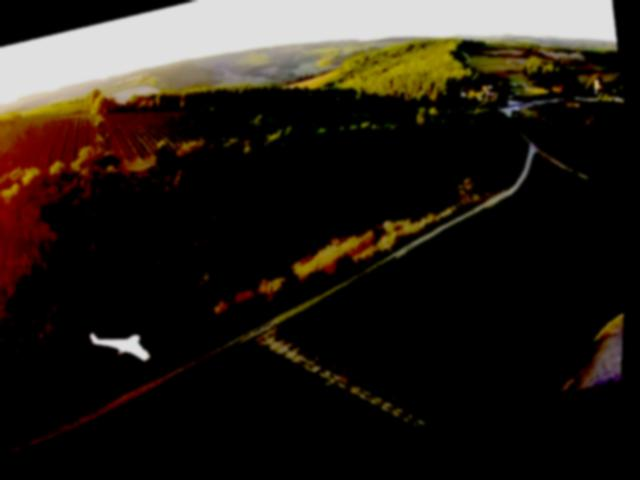plane: (91, 324, 156, 377)
